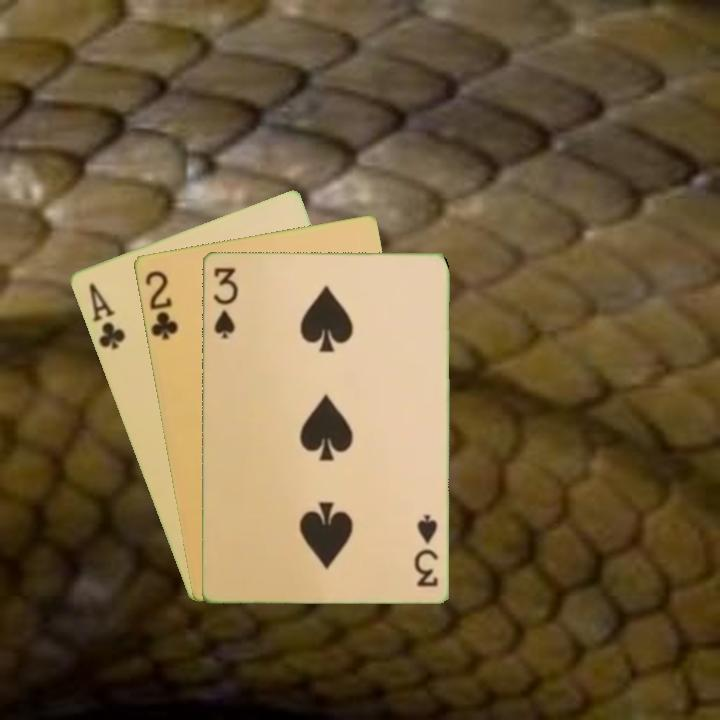2c: (141, 267, 181, 343)
3s: (210, 263, 240, 341), (410, 511, 440, 589)
Ac: (84, 279, 128, 352)
